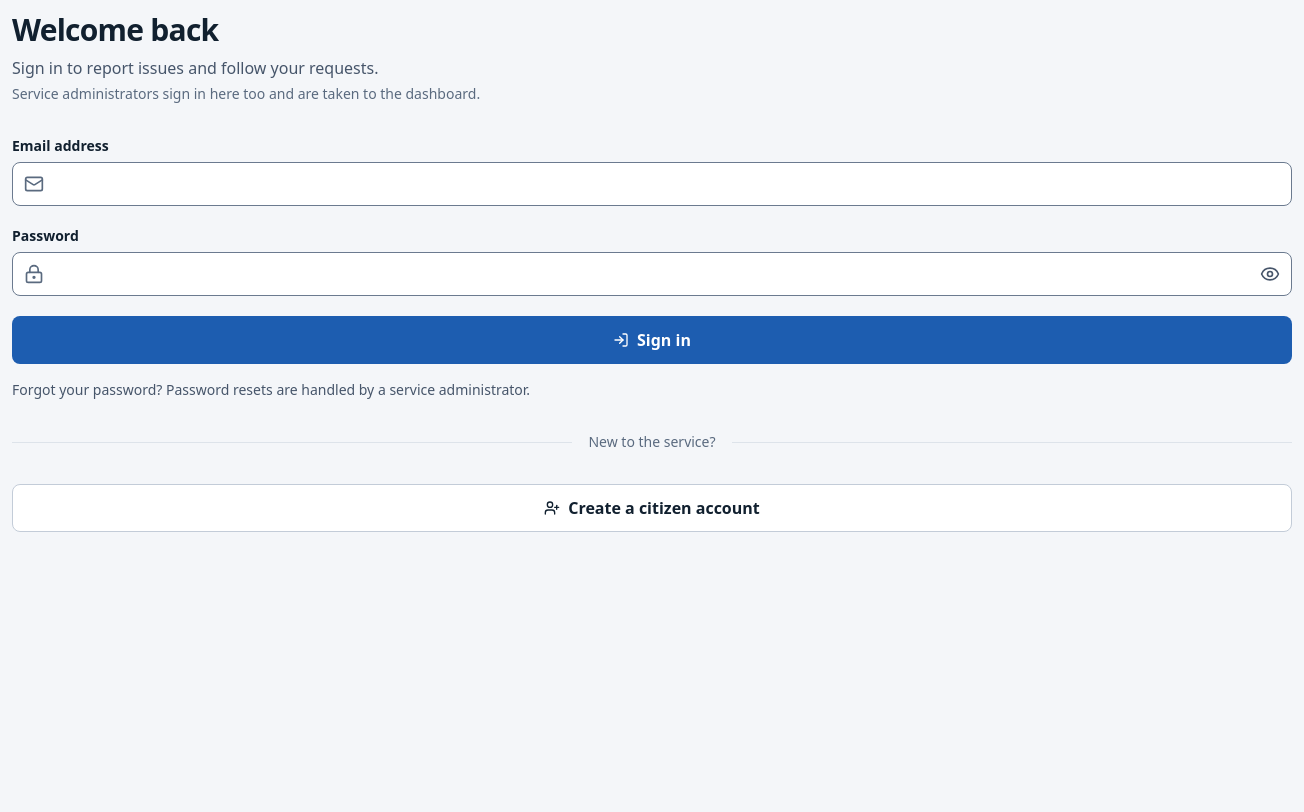
Test: LoginPage › sends an administrator to the dashboard
The image size is (1304, 812).
Type "admin@example.test" into the field labelled "Email address". click: x=652, y=184
box: [12,162,1292,206]
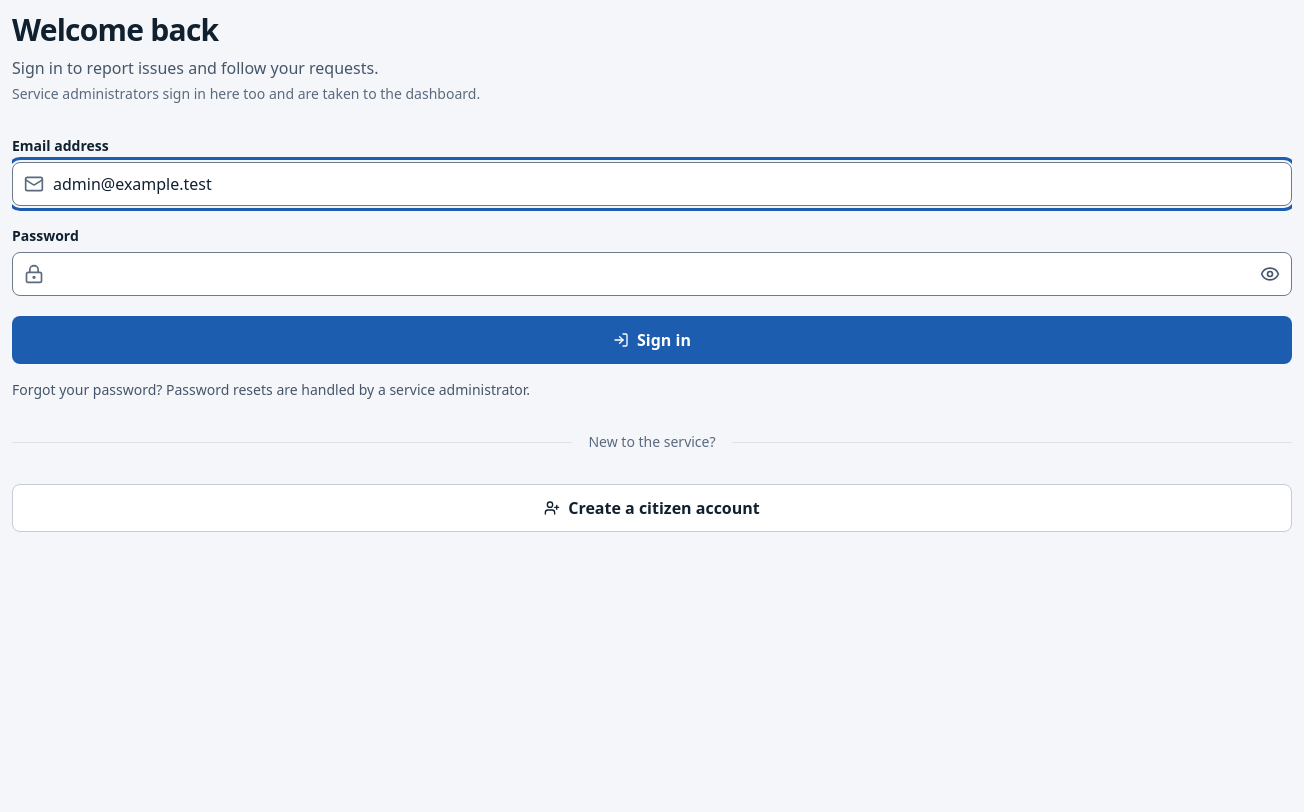
Type "secret-pass-1" into the password field labelled "Password". click: x=652, y=274
box: [12,252,1292,296]
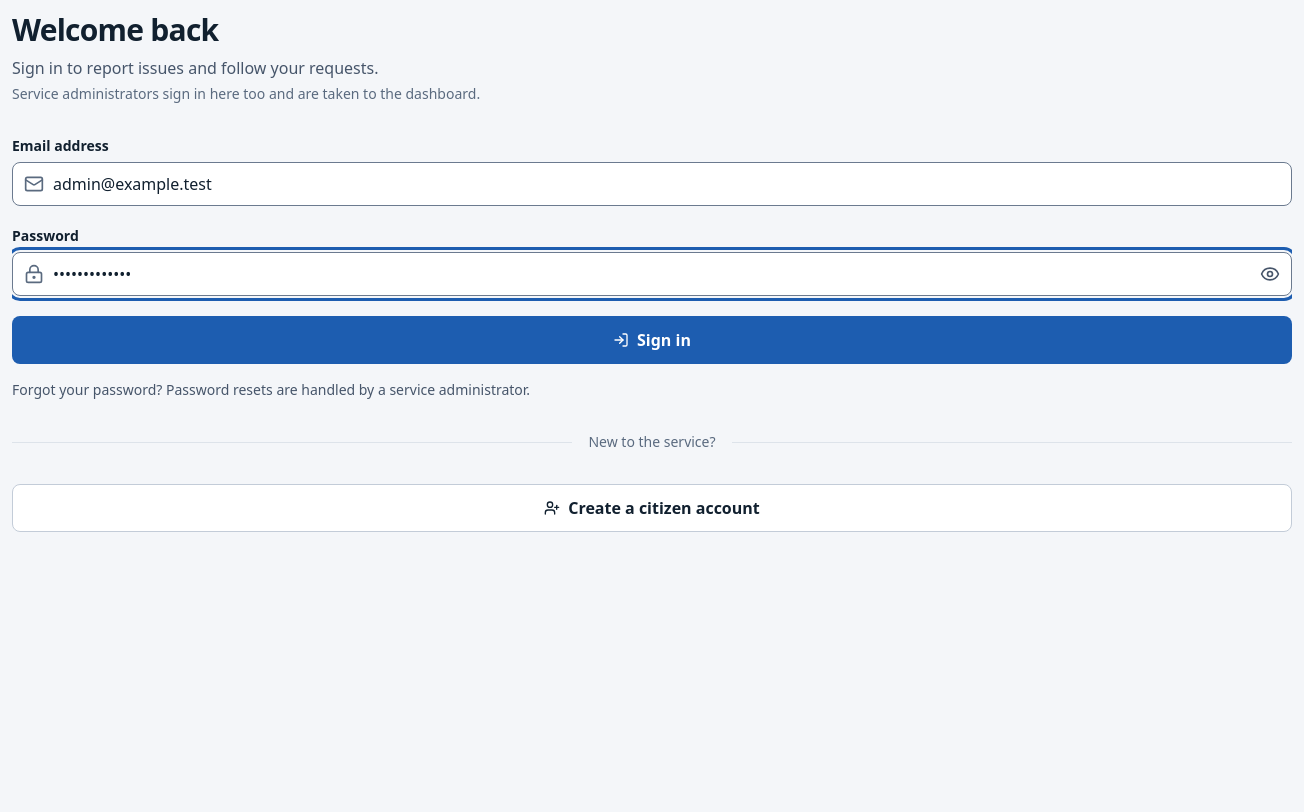
Click the button "Sign in". click: x=652, y=340
box: [12,316,1292,364]
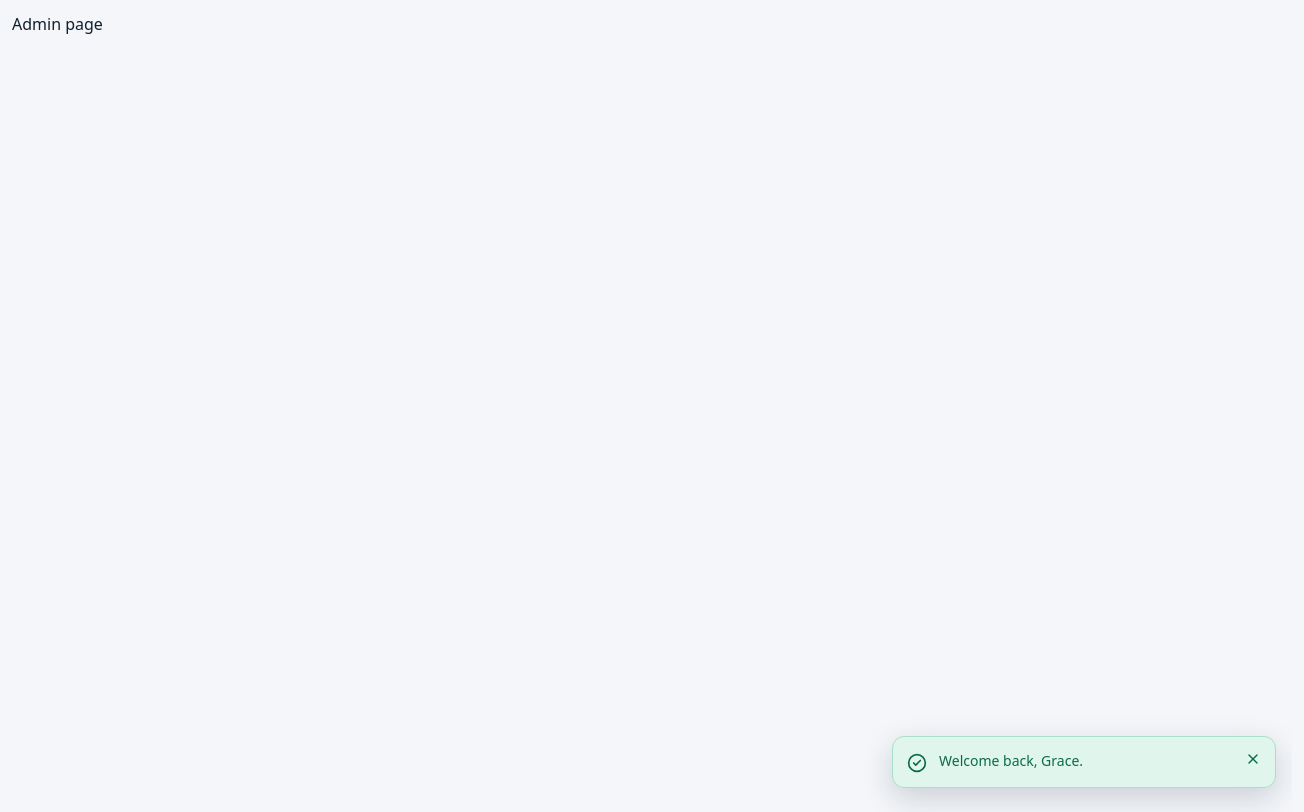
expect the heading "Admin page" is shown: met, box [12,13,103,35]
